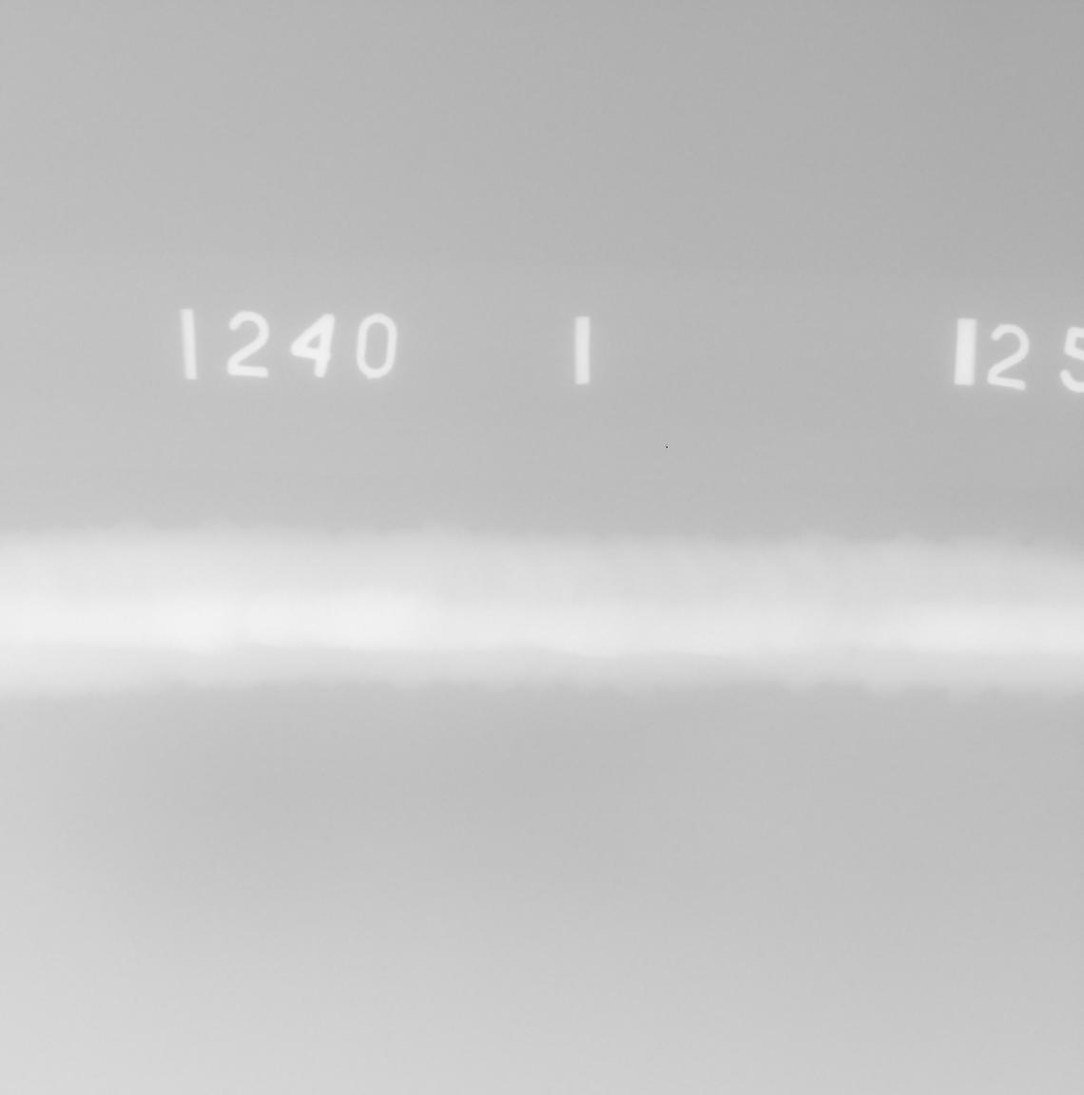Inclusion: (873, 617, 879, 619)
